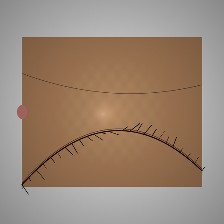hemorrhage_spot: (113, 65, 187, 124)
